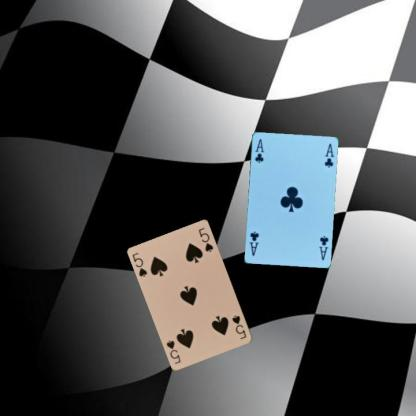5s: (130, 250, 148, 279), (230, 313, 248, 340)
Ac: (252, 136, 265, 164), (317, 233, 329, 261)
